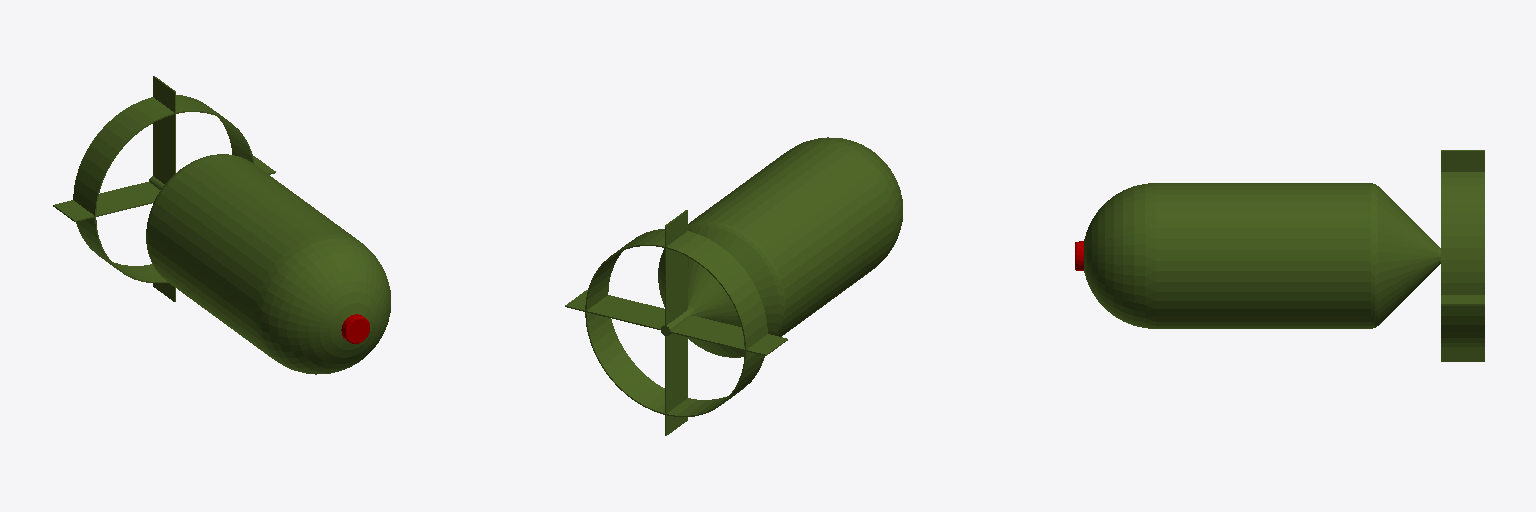
The model's file is bomb.obj.
3 views of the same model, side by side, from view 1: azimuth 30°, elevation 25°; view 2: azimuth 150°, elevation 25°; view 3: azimuth 270°, elevation 25° (orthographic).
Visible parts, largest first — view 1: Solid1; view 2: Solid1; view 3: Solid1.
Part boxes in pixels (left/top/right/bottom): Solid1: left=53, top=76, right=390, bottom=374; Solid1: left=565, top=137, right=902, bottom=435; Solid1: left=1075, top=150, right=1484, bottom=361.
Size of the model in its own units: 1.59 by 1.59 by 2.8.